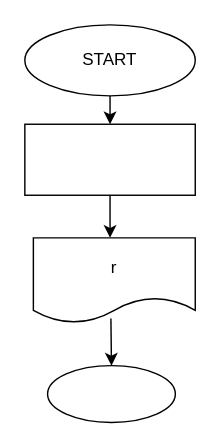
The diagram is 220 pixels wide and 447 high, and some of its shapes have lost their labels. The shapes that lost their labels are listed below. From the top down, each one's box as (x1, y1, x2, y2) in pixels, then its label:
(23, 123, 195, 195): r r = (1,N)
(46, 364, 175, 422): END
